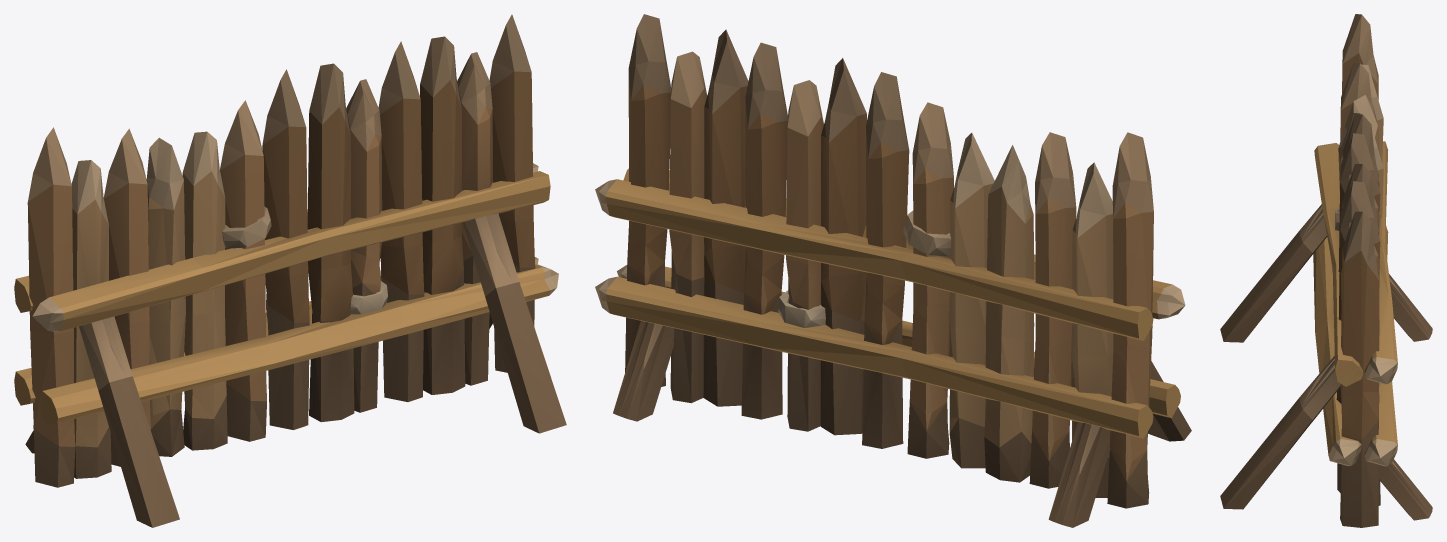
Rendered from fence_palisade_e.glb.
3 views of the same model, side by side, from view 1: azimuth 30°, elevation 25°; view 2: azimuth 150°, elevation 25°; view 3: azimuth 270°, elevation 25° (orthographic). The views are drawn at different scales.
Size of the model in its own units: 2.4 by 1.51 by 0.9362.
